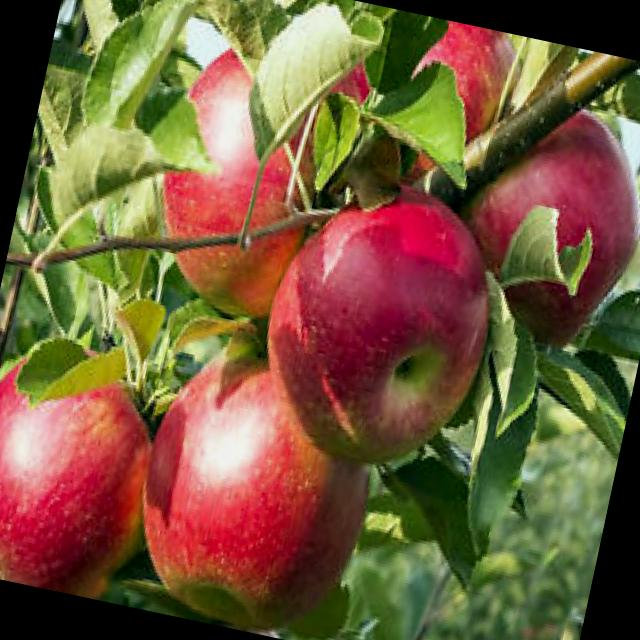apple: (118, 320, 405, 640), (242, 158, 520, 488), (128, 26, 410, 326), (418, 85, 640, 369), (0, 316, 190, 605)
